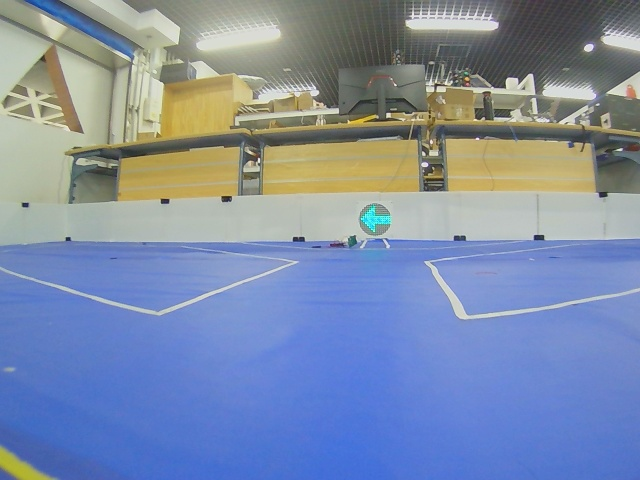left_green: (359, 203, 392, 236)
